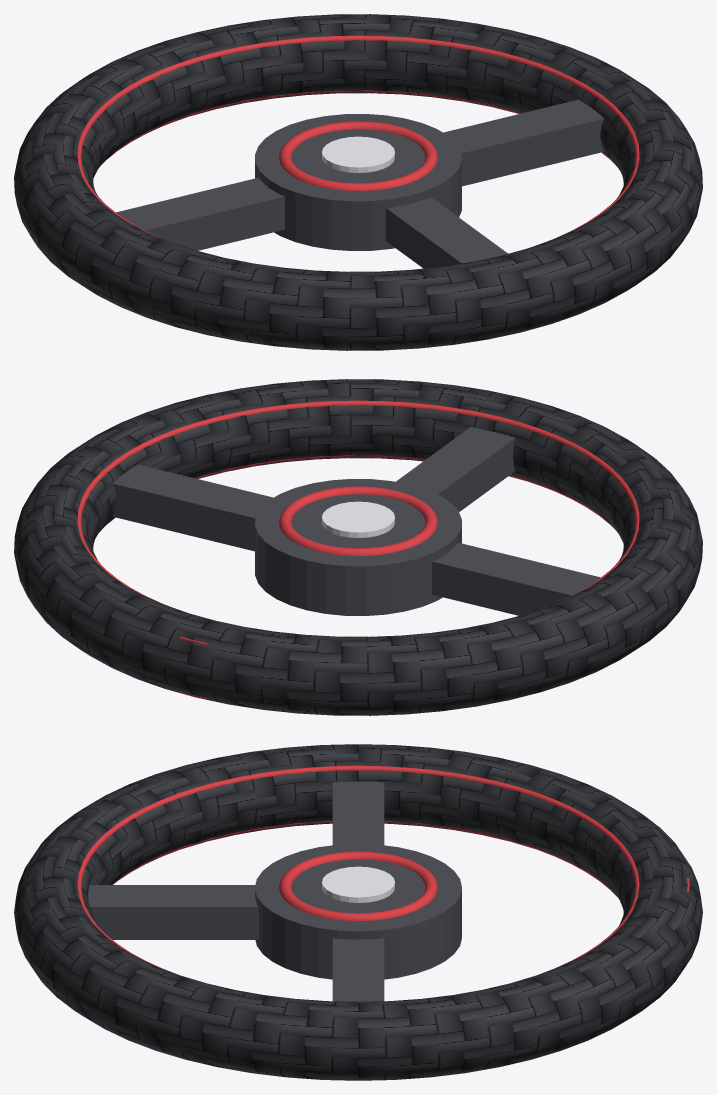
Rendered from steering-wheel-cover-DyyyqPyn.glb.
The picture shows the model from 3 angles, top to bottom: view 1: azimuth 30°, elevation 25°; view 2: azimuth 150°, elevation 25°; view 3: azimuth 270°, elevation 25°; orthographic projection.
Parts seen in each view (by area): view 1: Wheel; view 2: Wheel; view 3: Wheel.
Boxes of the visible parts, x1,y1,x2,y2 form: Wheel: [14, 14, 702, 350]; Wheel: [14, 379, 702, 715]; Wheel: [14, 744, 702, 1080].
Size of the model in its own units: 2.26 by 0.2561 by 2.26.
Materials: 4 (1 with a texture image).
